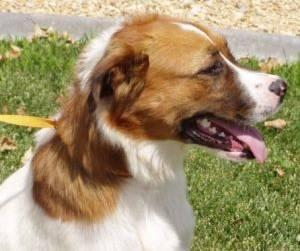dog: (0, 13, 286, 250)
